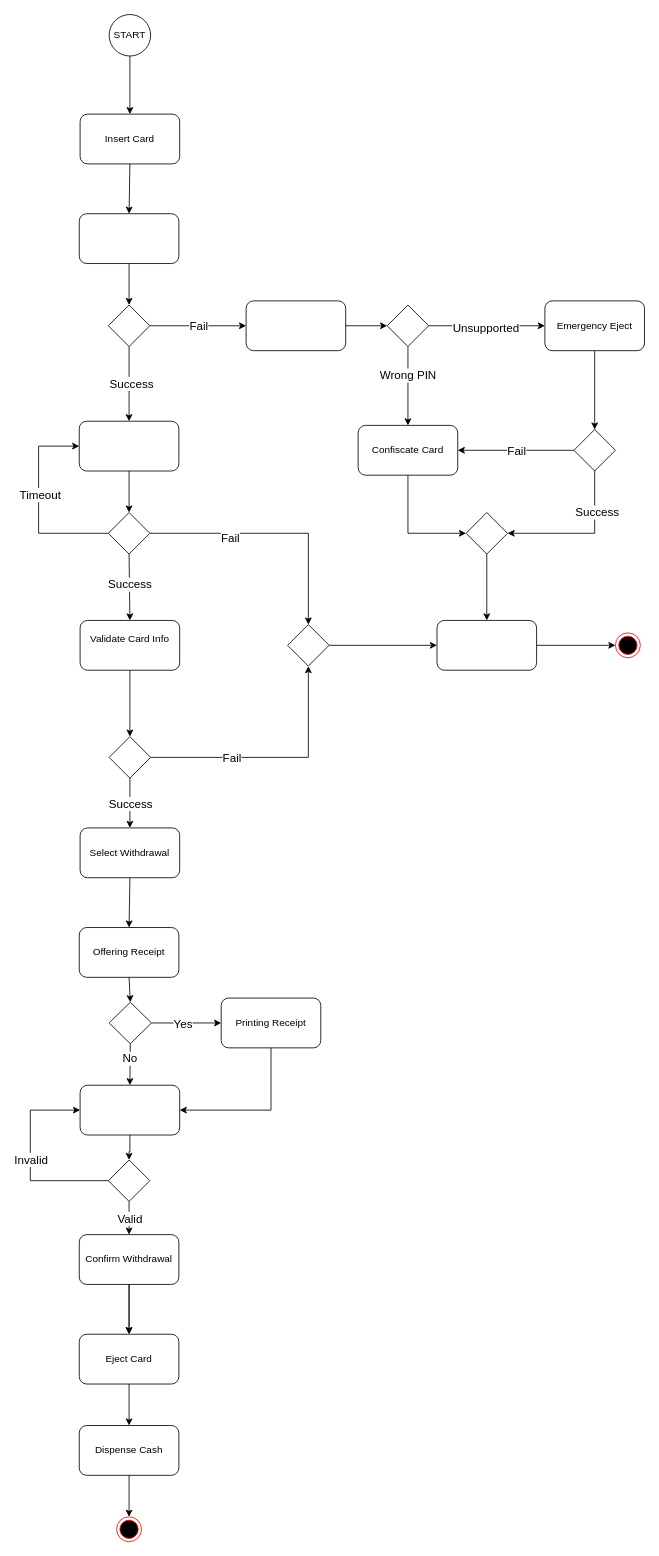
The diagram is 659 pixels wide and 1556 high, and some of its shapes have lost their labels. The box of each missing label's shape, as (x1, y1, x2, y2) in pixels:
Authenticate Customer: (78, 420, 179, 471)
Card Reading: (78, 213, 179, 264)
Handling Invalid Card: (245, 300, 346, 351)
Log Event: (436, 620, 537, 670)
Select Amount: (79, 1084, 180, 1135)
